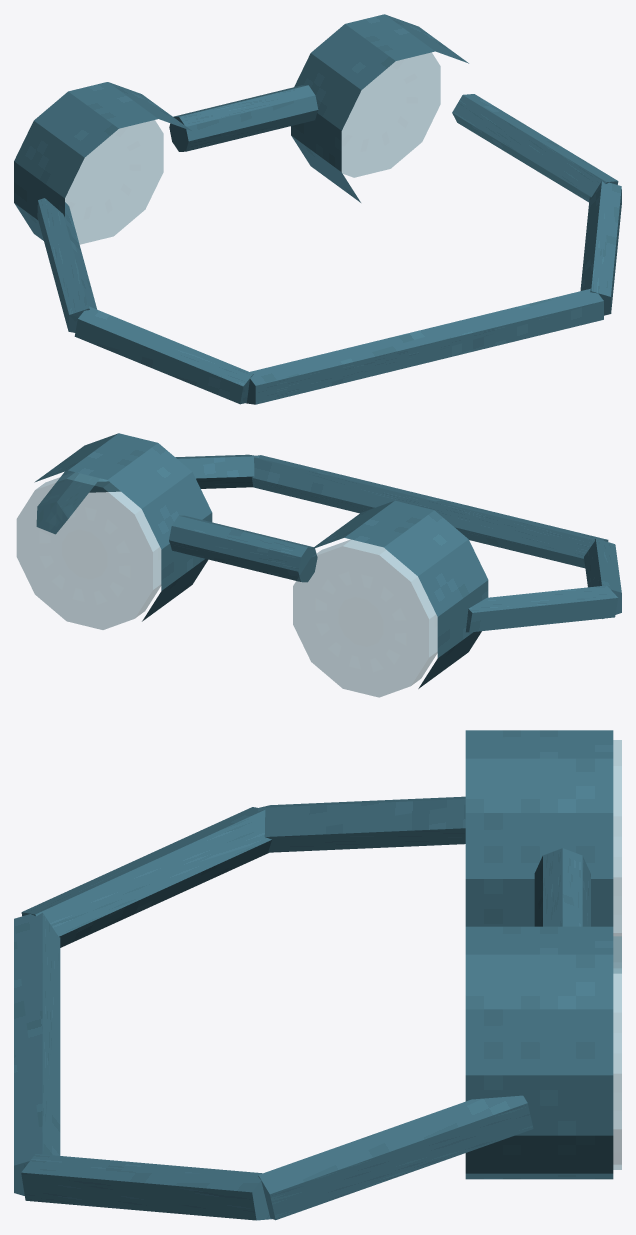
Rendered from goggles_swim.glb.
The picture shows the model from 3 angles, top to bottom: view 1: azimuth 30°, elevation 25°; view 2: azimuth 150°, elevation 25°; view 3: azimuth 270°, elevation 25°; orthographic projection. The views are drawn at different scales.
Parts seen in each view (by area): view 1: block_rubber eyecup (×2), block_goggle lens (×2), block_elastic strap 2, block_elastic strap 1, block_elastic strap 4, block_bridge, block_elastic strap 0, block_elastic strap 3; view 2: block_goggle lens (×2), block_rubber eyecup (×2), block_elastic strap 2, block_bridge, block_elastic strap 0, block_elastic strap 3, block_elastic strap 4, block_elastic strap 1; view 3: block_rubber eyecup (×2), block_elastic strap 4, block_elastic strap 1, block_elastic strap 3, block_elastic strap 2, block_elastic strap 0, block_goggle lens (×2), block_bridge.
Part boxes in pixels (x1,y1,x2,y2): block_rubber eyecup (×2): [14, 14, 468, 240]; block_goggle lens (×2): [65, 52, 440, 244]; block_elastic strap 2: [246, 288, 603, 404]; block_elastic strap 1: [74, 306, 253, 404]; block_elastic strap 4: [452, 94, 618, 202]; block_bridge: [169, 85, 318, 151]; block_elastic strap 0: [37, 198, 96, 332]; block_elastic strap 3: [580, 181, 621, 315]; block_goggle lens (×2): [16, 472, 437, 697]; block_rubber eyecup (×2): [34, 433, 488, 688]; block_elastic strap 2: [252, 455, 608, 568]; block_bridge: [169, 515, 317, 582]; block_elastic strap 0: [466, 585, 618, 632]; block_elastic strap 3: [89, 454, 258, 492]; block_elastic strap 4: [36, 470, 99, 534]; block_elastic strap 1: [584, 538, 621, 618]; block_rubber eyecup (×2): [465, 730, 613, 1179]; block_elastic strap 4: [258, 1095, 533, 1220]; block_elastic strap 1: [21, 807, 271, 947]; block_elastic strap 3: [21, 1154, 272, 1220]; block_elastic strap 2: [14, 912, 60, 1195]; block_elastic strap 0: [258, 796, 465, 852]; block_goggle lens (×2): [613, 740, 621, 1169]; block_bridge: [534, 848, 590, 926].
Size of the model in its own units: 0.166 by 0.0472 by 0.1096.
2 materials, 2 textured.
